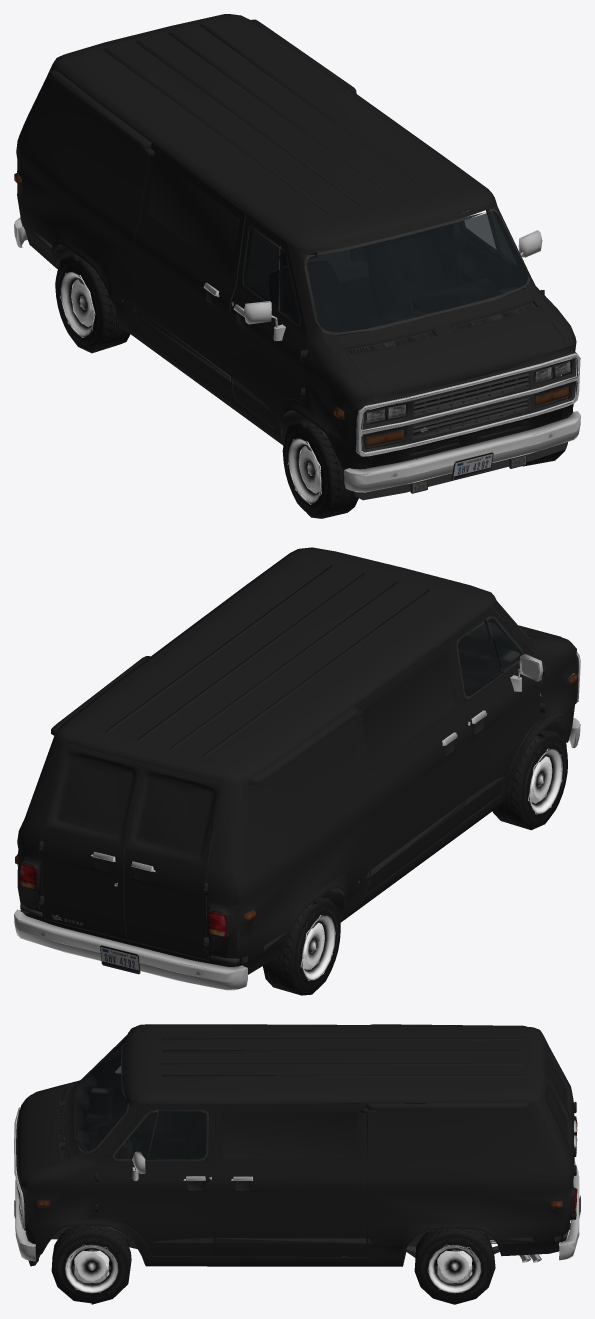
Rendered from shvan_lod1.glb.
3 renders of one model, top to bottom at view 1: azimuth 30°, elevation 25°; view 2: azimuth 150°, elevation 25°; view 3: azimuth 270°, elevation 25°, orthographic. The views are drawn at different scales.
Parts seen in each view (by area): view 1: Shvan92_Body_Shvan92_bodymat_0, Shvan92_Interior_UCB_Interiors_1_0, Shvan92_Bottom_UCB_BOTTOM_0, Shvan92_Windshield_UCB_Lights_and_Glass_Transperent_0, Shvan92_Hood_Shvan92_bodymat_0, Shvan92_Bumper_front_UCB_BOTTOM_0, wheel_FR, wheel_RL, Shvan92_Glass_Passanger_UCB_Lights_and_Glass_Transperent_0, Shvan92_Headlights_Glass_UCB_Lights_and_Glass_Transperent_0, Shvan92_Body_glass_UCB_Lights_and_Glass_Transperent_0, Shvan92_Headlights_UCB_Lights_and_Glass_0; view 2: Shvan92_Body_Shvan92_bodymat_0, Shvan92_Bumper_rear_UCB_BOTTOM_0, wheel_RL, wheel_FR, Shvan92_Bottom_UCB_BOTTOM_0, Shvan92_Interior_UCB_Interiors_1_0, Shvan92_Glass_Passanger_UCB_Lights_and_Glass_Transperent_0, Shvan92_Body_glass_UCB_Lights_and_Glass_Transperent_0, Shvan92_Numberplate_rear_Numberplates_Misk_U_0; view 3: Shvan92_Body_Shvan92_bodymat_0, Shvan92_Interior_UCB_Interiors_1_0, wheel_FL, wheel_RL, Shvan92_Bottom_UCB_BOTTOM_0, Shvan92_Windshield_UCB_Lights_and_Glass_Transperent_0, Shvan92_Hood_Shvan92_bodymat_0, Shvan92_Glass_Driver_UCB_Lights_and_Glass_Transperent_0, Shvan92_Body_glass_UCB_Lights_and_Glass_Transperent_0, Shvan92_Bumper_rear_UCB_BOTTOM_0, Shvan92_Bumper_front_UCB_BOTTOM_0.
Boxes of the visible parts, x1,y1,x2,y2 form: Shvan92_Body_Shvan92_bodymat_0: (16,14,577,471); Shvan92_Interior_UCB_Interiors_1_0: (56,185,527,425); Shvan92_Bottom_UCB_BOTTOM_0: (14,172,580,500); Shvan92_Windshield_UCB_Lights_and_Glass_Transperent_0: (307,211,527,332); Shvan92_Hood_Shvan92_bodymat_0: (348,308,567,404); Shvan92_Bumper_front_UCB_BOTTOM_0: (344,411,580,492); wheel_FR: (282,419,358,518); wheel_RL: (55,253,130,353); Shvan92_Glass_Passanger_UCB_Lights_and_Glass_Transperent_0: (243,228,279,309); Shvan92_Headlights_Glass_UCB_Lights_and_Glass_Transperent_0: (366,362,570,446); Shvan92_Body_glass_UCB_Lights_and_Glass_Transperent_0: (280,209,516,323); Shvan92_Headlights_UCB_Lights_and_Glass_0: (366,360,570,422); Shvan92_Body_Shvan92_bodymat_0: (17,547,578,974); Shvan92_Bumper_rear_UCB_BOTTOM_0: (14,909,247,990); wheel_RL: (262,897,340,995); wheel_FR: (492,729,567,830); Shvan92_Bottom_UCB_BOTTOM_0: (15,610,580,965); Shvan92_Interior_UCB_Interiors_1_0: (35,619,530,953); Shvan92_Glass_Passanger_UCB_Lights_and_Glass_Transperent_0: (458,621,501,696); Shvan92_Body_glass_UCB_Lights_and_Glass_Transperent_0: (488,618,522,671); Shvan92_Numberplate_rear_Numberplates_Misk_U_0: (100,947,139,973); Shvan92_Body_Shvan92_bodymat_0: (20,1024,576,1266); Shvan92_Interior_UCB_Interiors_1_0: (76,1037,562,1208); wheel_FL: (51,1226,131,1304); wheel_RL: (414,1229,495,1304); Shvan92_Bottom_UCB_BOTTOM_0: (14,1043,577,1266); Shvan92_Windshield_UCB_Lights_and_Glass_Transperent_0: (75,1035,127,1151); Shvan92_Hood_Shvan92_bodymat_0: (16,1087,60,1184); Shvan92_Glass_Driver_UCB_Lights_and_Glass_Transperent_0: (148,1112,206,1159); Shvan92_Body_glass_UCB_Lights_and_Glass_Transperent_0: (115,1112,157,1159); Shvan92_Bumper_rear_UCB_BOTTOM_0: (559,1161,580,1260); Shvan92_Bumper_front_UCB_BOTTOM_0: (14,1179,35,1261).
Bounding box in the file's own units: 2.35 × 1.93 × 4.9.
Materials: 8 (7 with a texture image).
